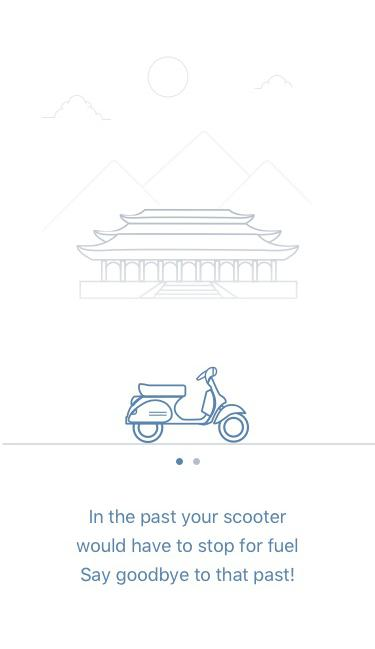Image: (39, 55, 315, 301), (124, 365, 252, 446)
PageIndicator: (175, 457, 201, 467)
Text: (77, 508, 299, 586)
